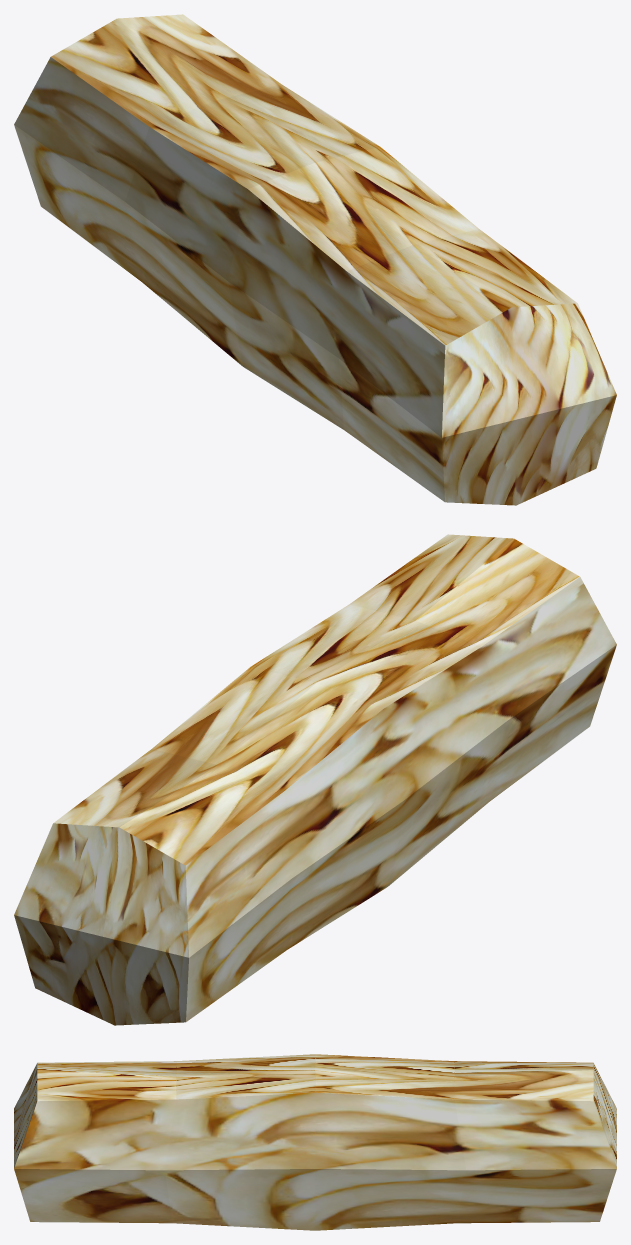
File: noodles_transportados.fbx
The picture shows the model from 3 angles, top to bottom: view 1: azimuth 30°, elevation 25°; view 2: azimuth 150°, elevation 25°; view 3: azimuth 270°, elevation 25°; orthographic projection. The views are drawn at different scales.
Visible parts, largest first — view 1: noodles_transportados; view 2: noodles_transportados; view 3: noodles_transportados.
Boxes of the visible parts, left/top/right/bottom form: noodles_transportados: left=14, top=14, right=616, bottom=505; noodles_transportados: left=14, top=534, right=616, bottom=1025; noodles_transportados: left=14, top=1054, right=616, bottom=1230.
Bounding box in the file's own units: 147 × 153 × 609.
